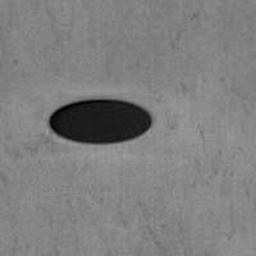Punching: (46, 99, 151, 146)
